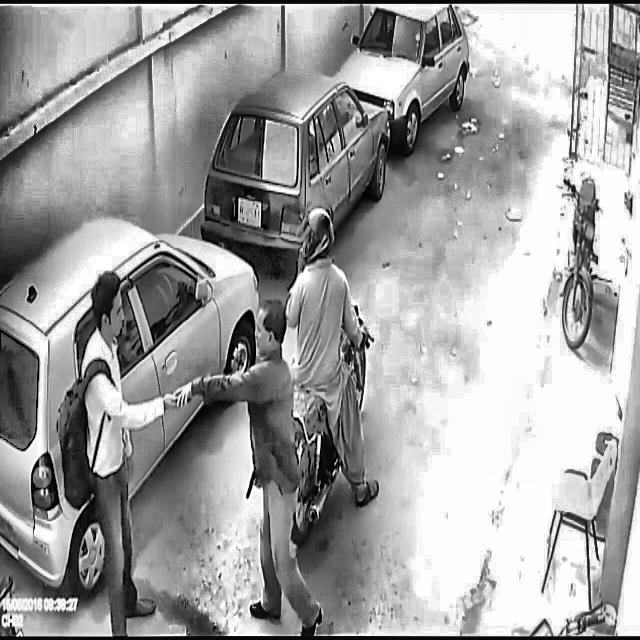robbery: (45, 184, 392, 639)
